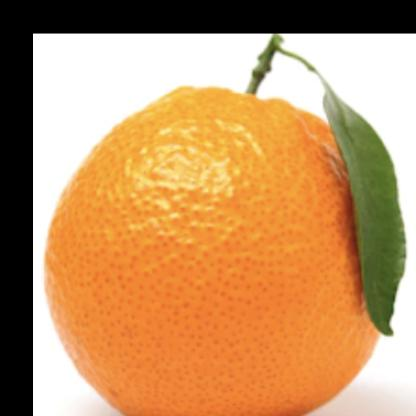fresh: (49, 74, 387, 416)
